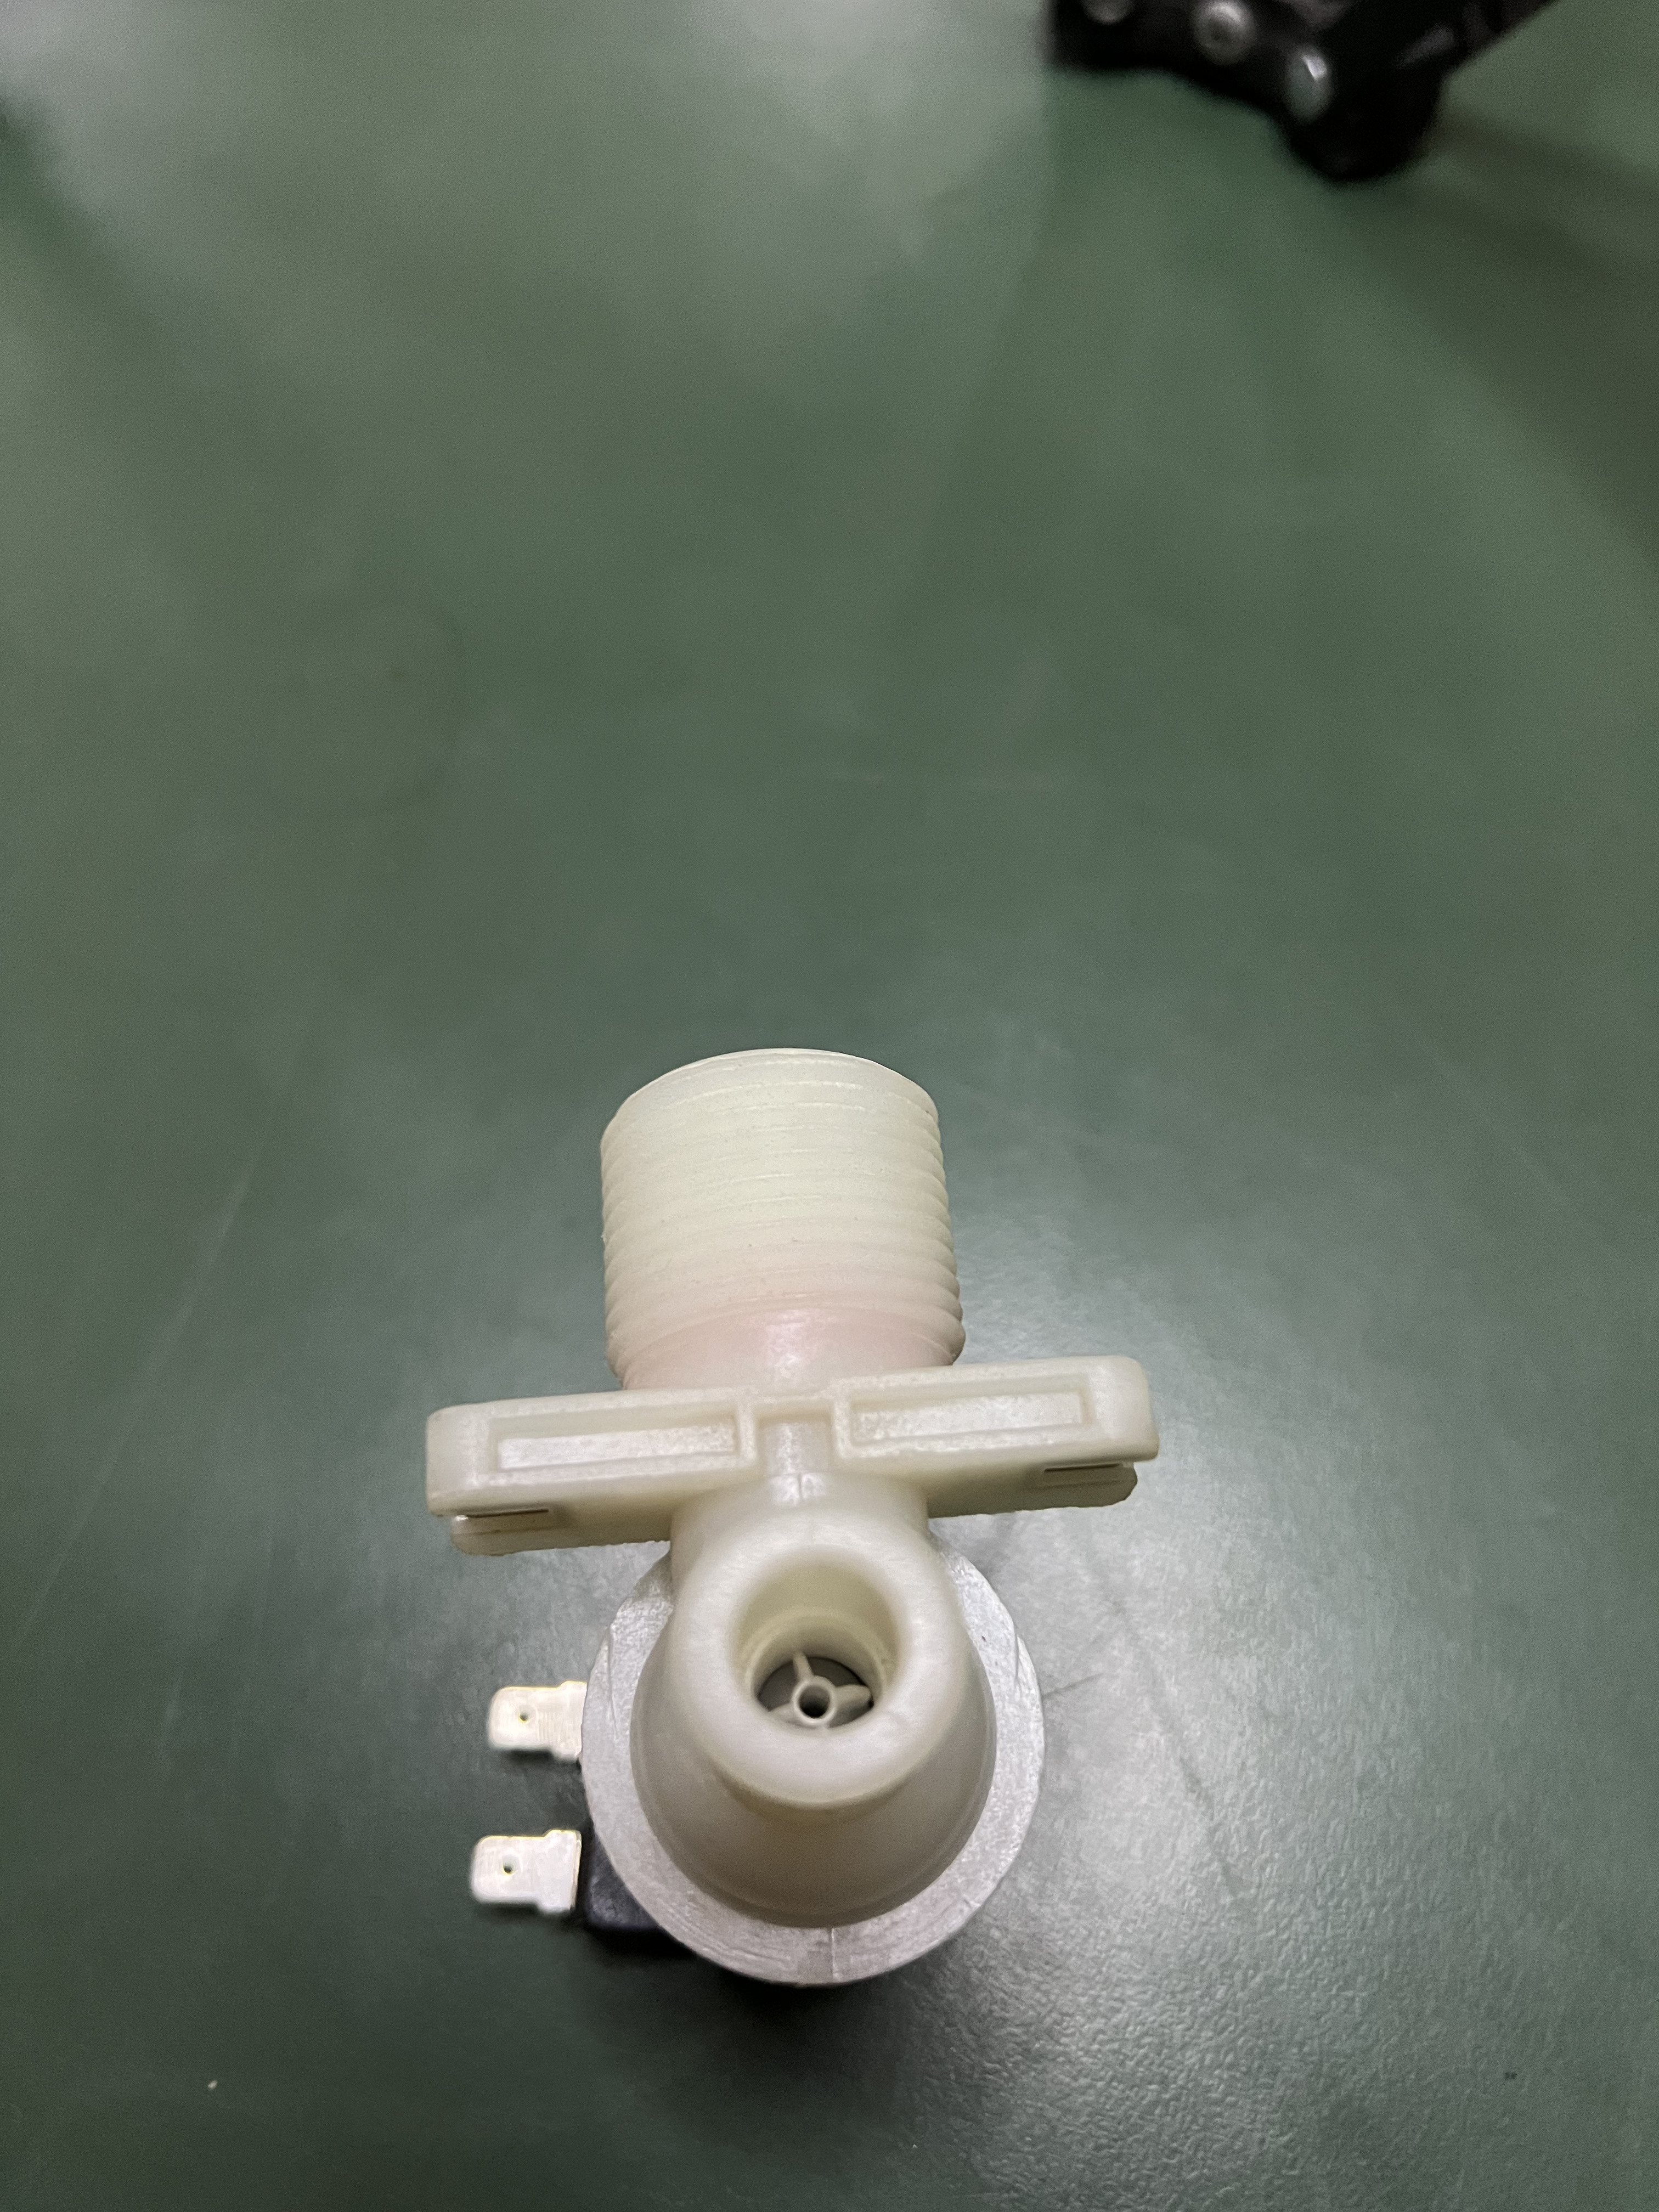godrej_inlet_valves: (305, 1028, 1229, 1980)
